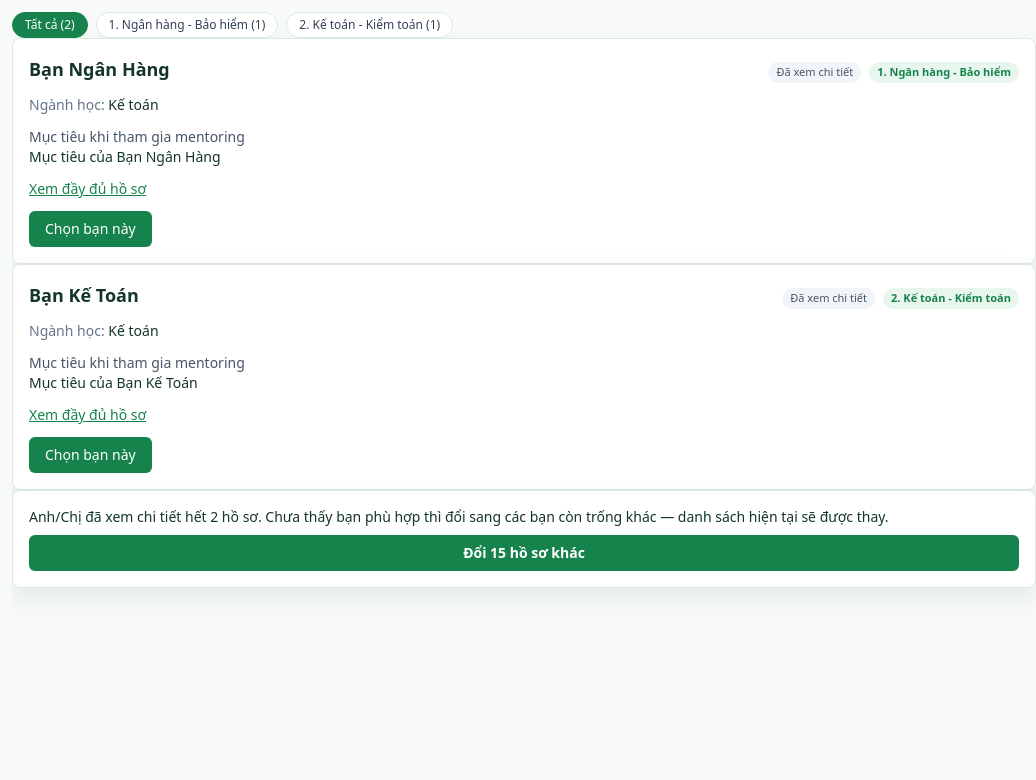
Scenario: đổi 15 hồ sơ khác (BTC 15/10/2026) › máy chủ từ chối (vd. vừa có hồ sơ mới thay vào chưa xem): báo đỏ, hiện đúng danh sách máy chủ trả
Click the button with test id "swap-button".
click(524, 553)  # box [29, 535, 1019, 571]
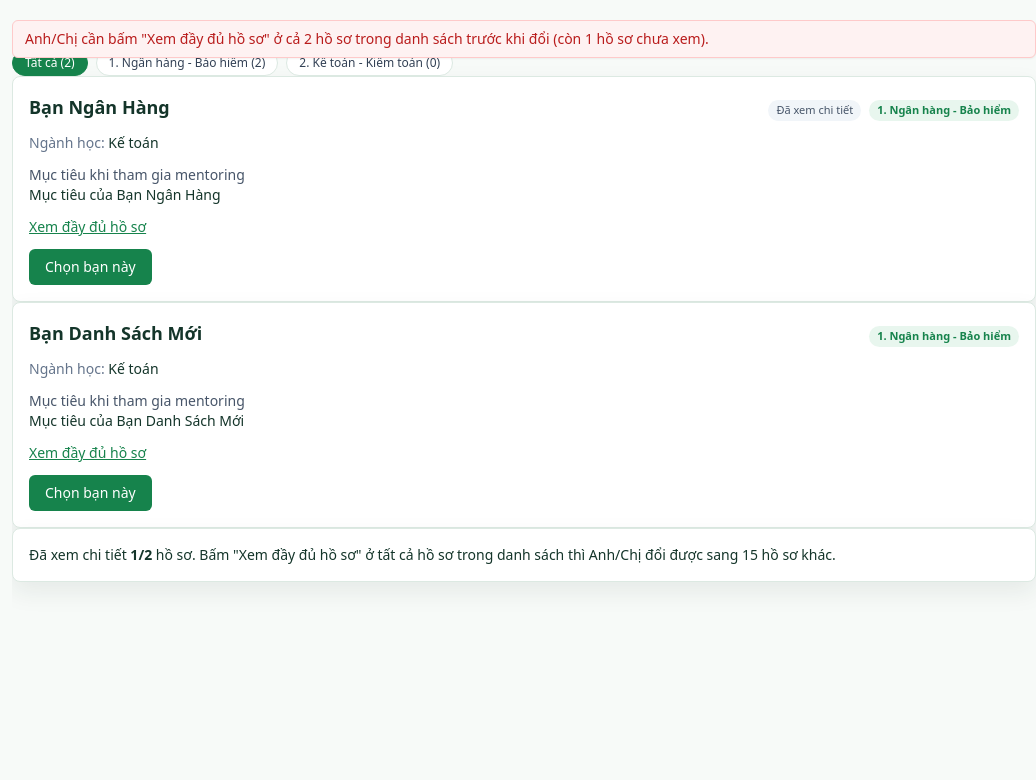
Now the button with test id "swap-button" is gone
Now the message with test id "pick-report" shows "còn 1 hồ sơ chưa xem", box [25, 29, 709, 48]
